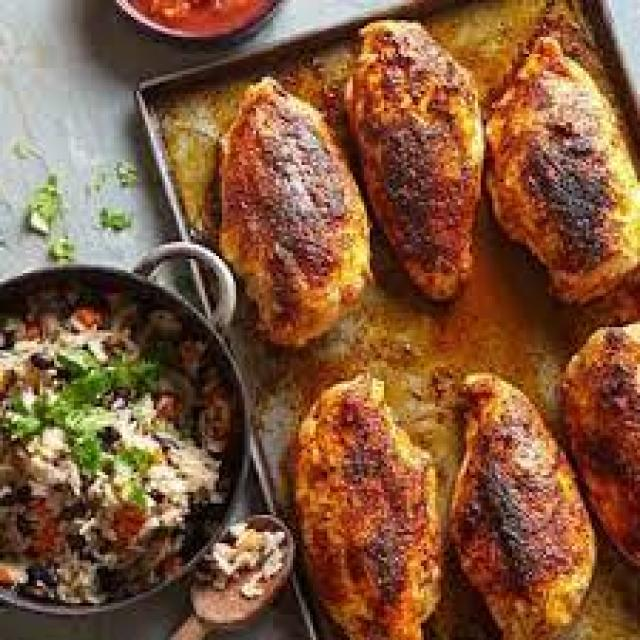Frango: (222, 25, 640, 640)
